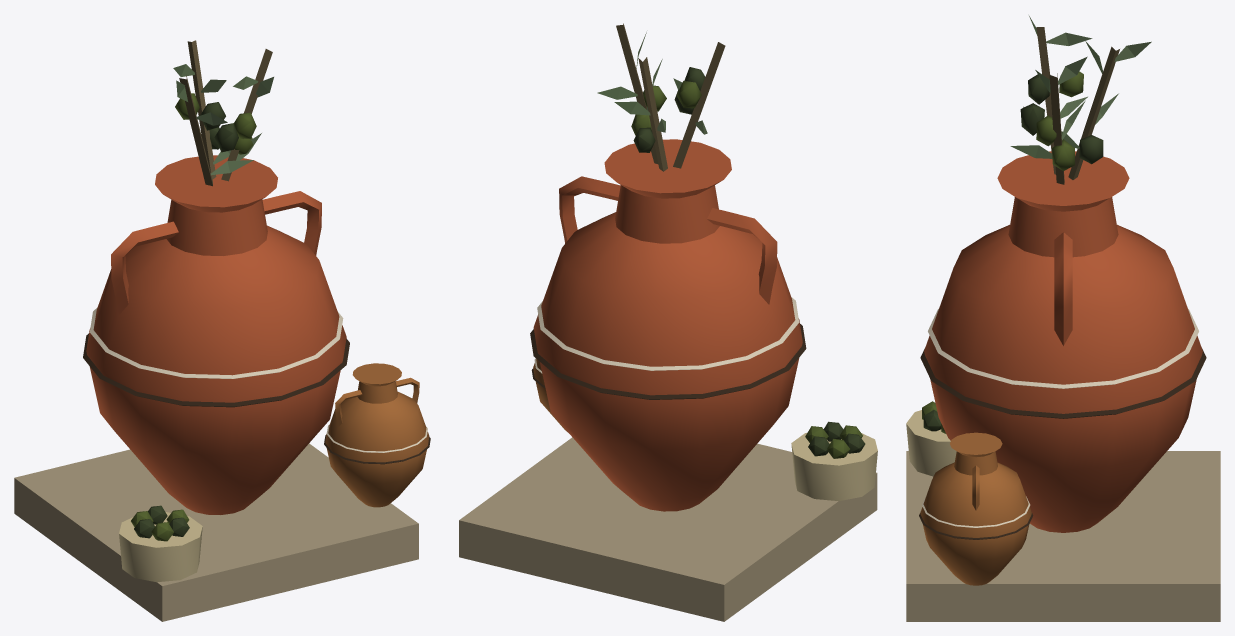
File: olive_jar.glb
The picture shows the model from 3 angles, left to right: view 1: azimuth 30°, elevation 25°; view 2: azimuth 150°, elevation 25°; view 3: azimuth 270°, elevation 25°; orthographic projection. The views are drawn at different scales.
Visible parts, largest first — view 1: decor-olive_jar; view 2: decor-olive_jar; view 3: decor-olive_jar.
Boxes of the visible parts, x1,y1,x2,y2 form: decor-olive_jar: (14,40,430,621); decor-olive_jar: (459,23,877,621); decor-olive_jar: (906,16,1220,621).
Size of the model in its own units: 1.09 by 1.67 by 0.9001.
